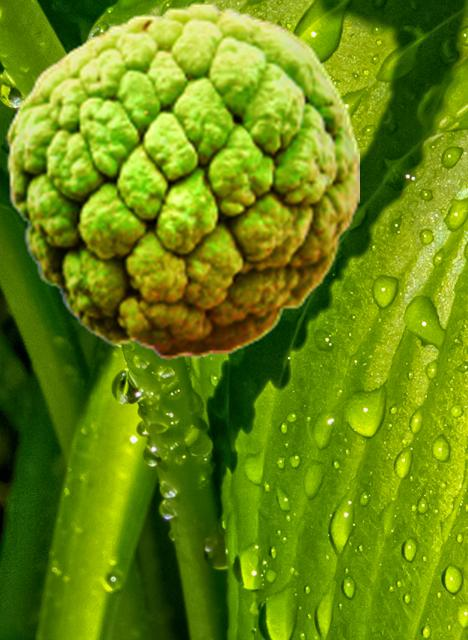atis: (5, 1, 358, 359)
